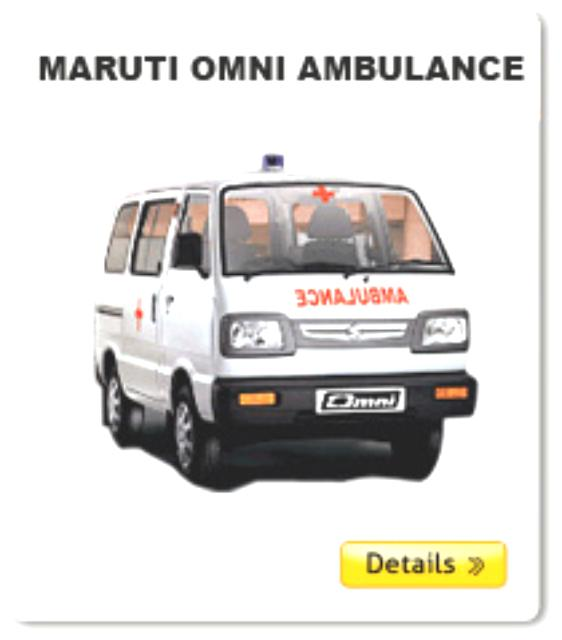ambulance: (78, 148, 492, 491)
